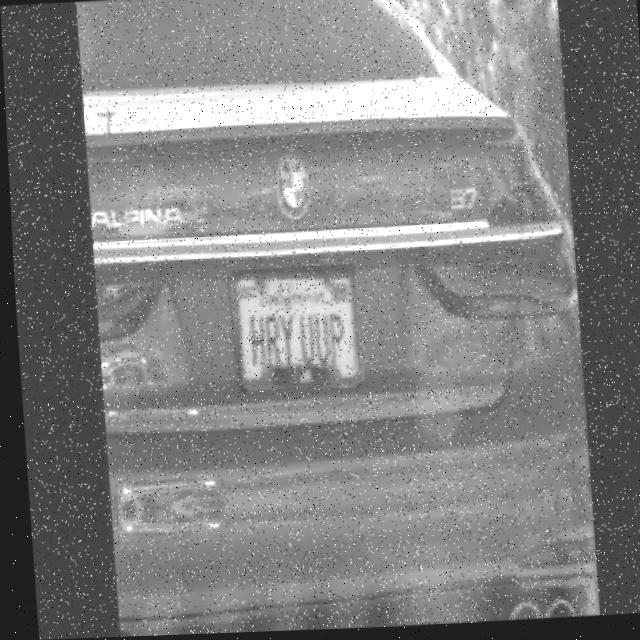LicensePlate: (229, 266, 358, 394)
